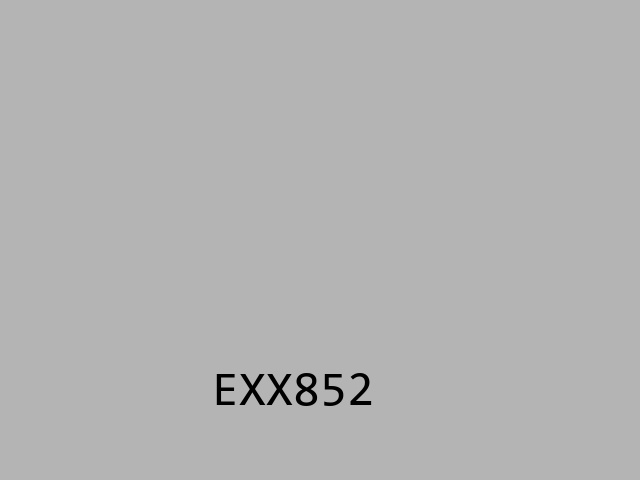OCR_AREA: (208, 369, 378, 410)
